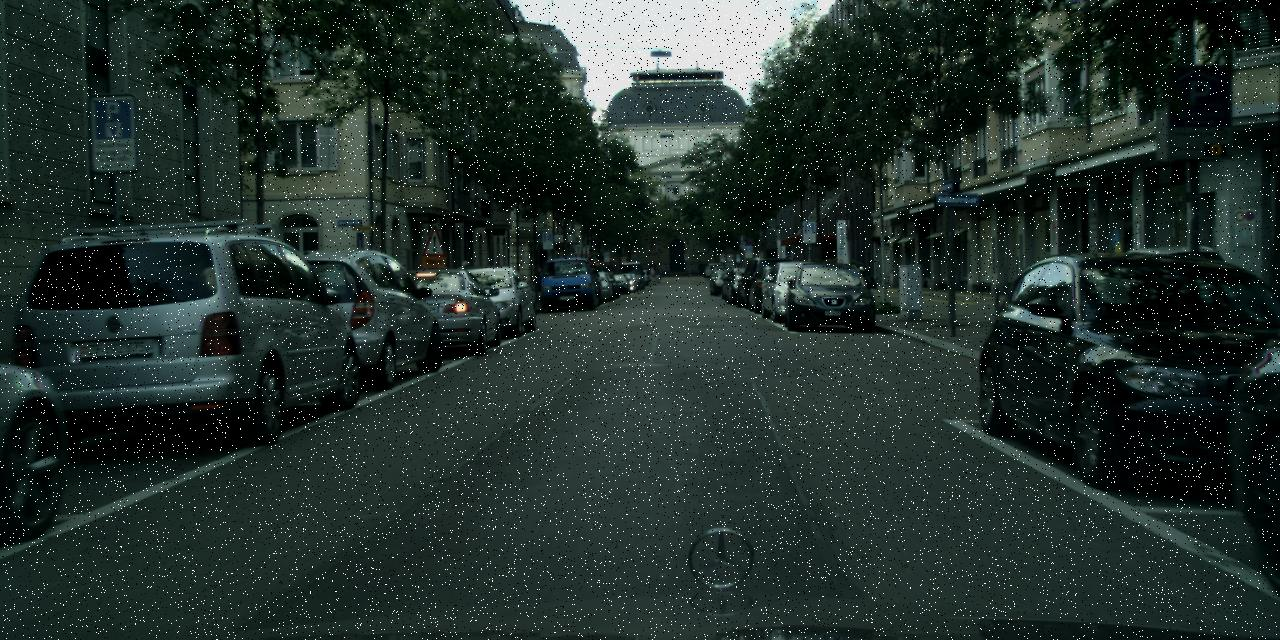ped: (454, 260, 471, 304), (654, 267, 660, 281), (650, 265, 654, 277)
